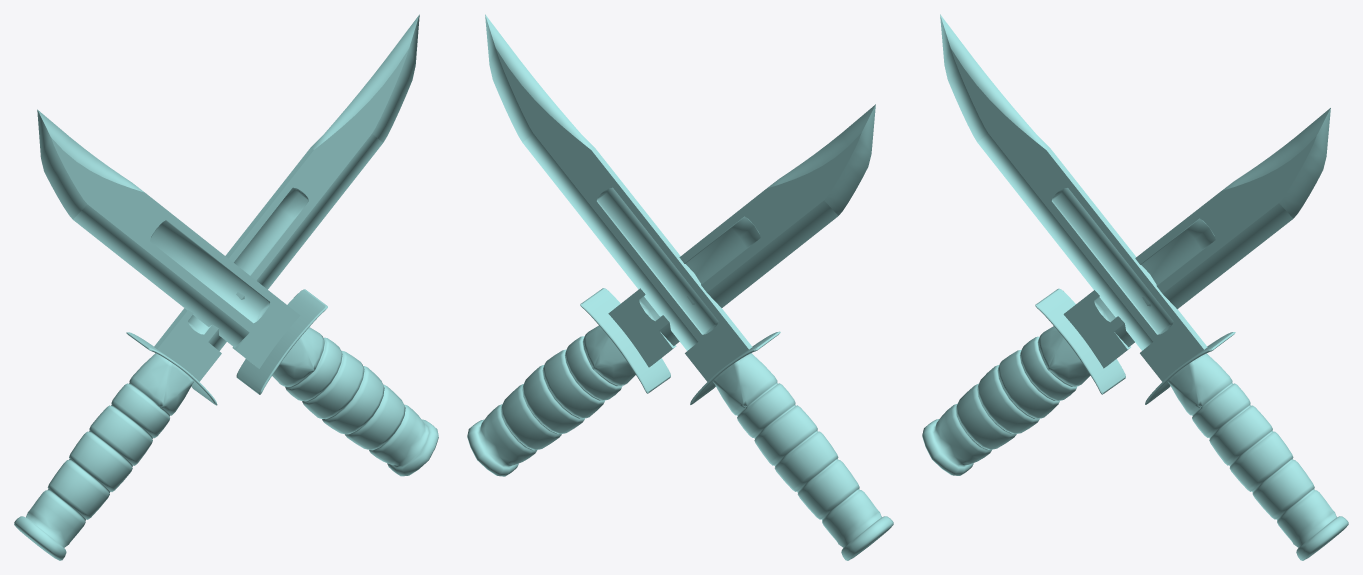
Rendered from knife.obj.
The picture shows the model from 3 angles, left to right: view 1: azimuth 30°, elevation 25°; view 2: azimuth 150°, elevation 25°; view 3: azimuth 330°, elevation 25°; orthographic projection.
Parts seen in each view (by area): view 1: Object01, Object002; view 2: Object002, Object01; view 3: Object01, Object002.
Part boxes in pixels (left/top/right/bottom): Object01: left=37, top=109, right=438, bottom=476; Object002: left=14, top=14, right=419, bottom=560; Object002: left=485, top=14, right=893, bottom=560; Object01: left=467, top=104, right=875, bottom=476; Object01: left=940, top=14, right=1348, bottom=560; Object002: left=922, top=108, right=1330, bottom=475.
Bounding box in the file's own units: 2.38 × 2.51 × 0.2825.
